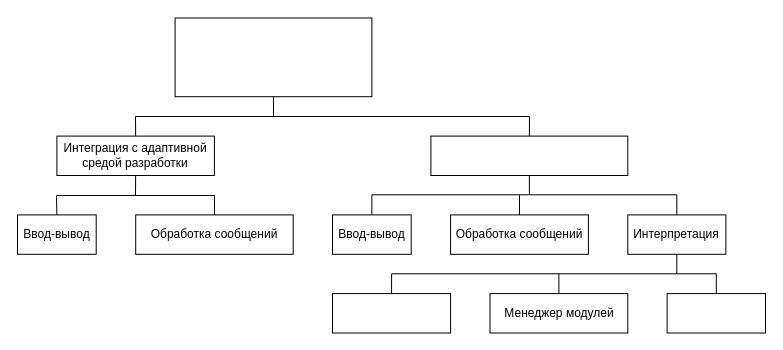
The diagram is 783 pixels wide and 350 high, and some of its shapes have lost their labels. Here are the shapes that lost their labels. From the top down, the box of each, then its label:
(174, 17, 372, 97): Программная подсистема имитационного моделирования процессов
(430, 135, 628, 176): Имитационное моделирование
(332, 293, 451, 333): Интерпретатор
(666, 293, 766, 333): Модуль сцены
